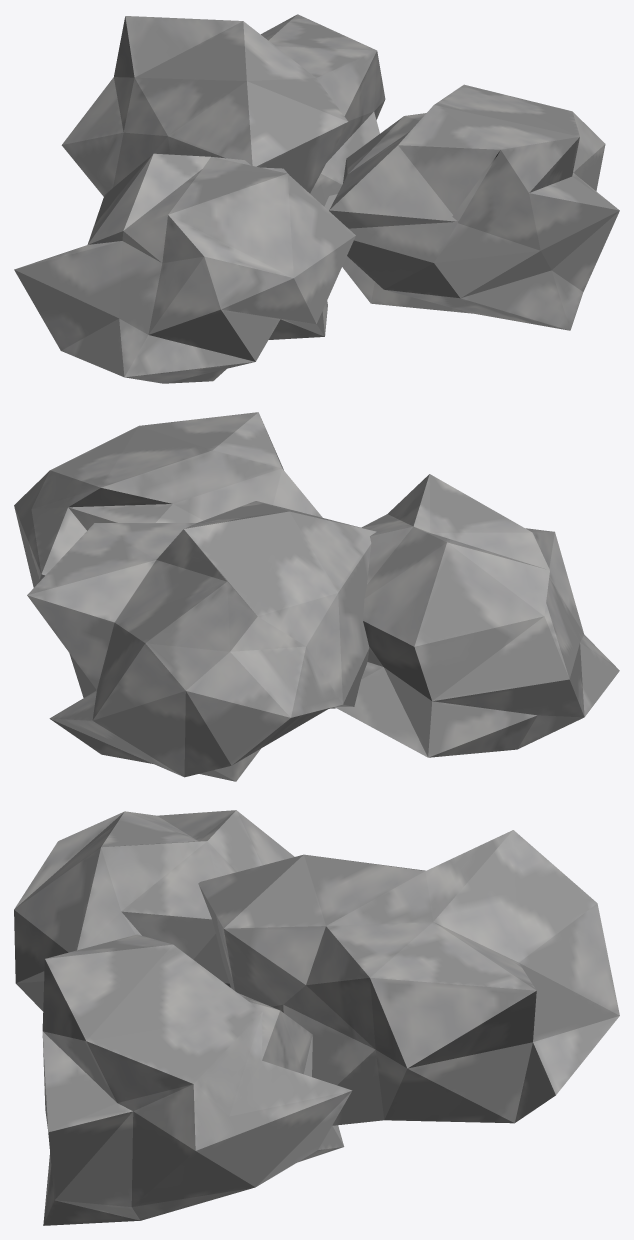
The model's file is stone_3.glb.
3 views of the same model, one above another, from view 1: azimuth 30°, elevation 25°; view 2: azimuth 150°, elevation 25°; view 3: azimuth 270°, elevation 25° (orthographic). The views are drawn at different scales.
Visible parts, largest first — view 1: stone_3; view 2: stone_3; view 3: stone_3.
Boxes of the visible parts, x1,y1,x2,y2 form: stone_3: (14,14,619,383); stone_3: (14,412,619,781); stone_3: (14,810,619,1225).
Size of the model in its own units: 0.579 by 0.2242 by 0.4673.
Materials: 1 (1 with a texture image).
